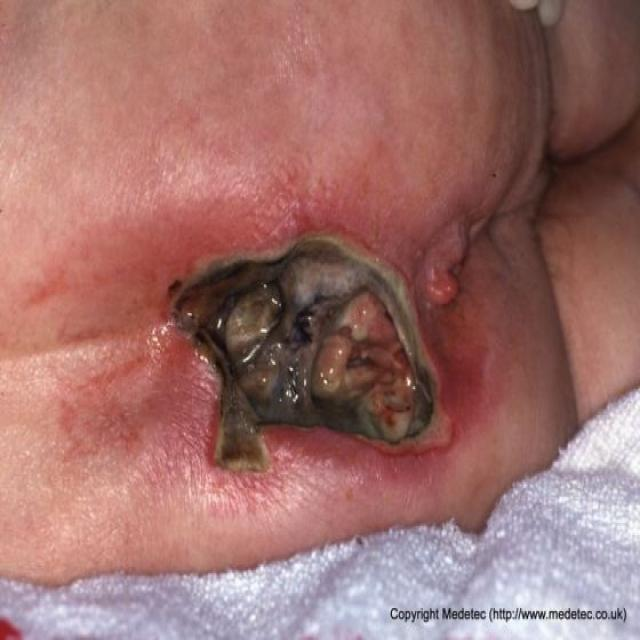Unstageable: (171, 236, 449, 470)
